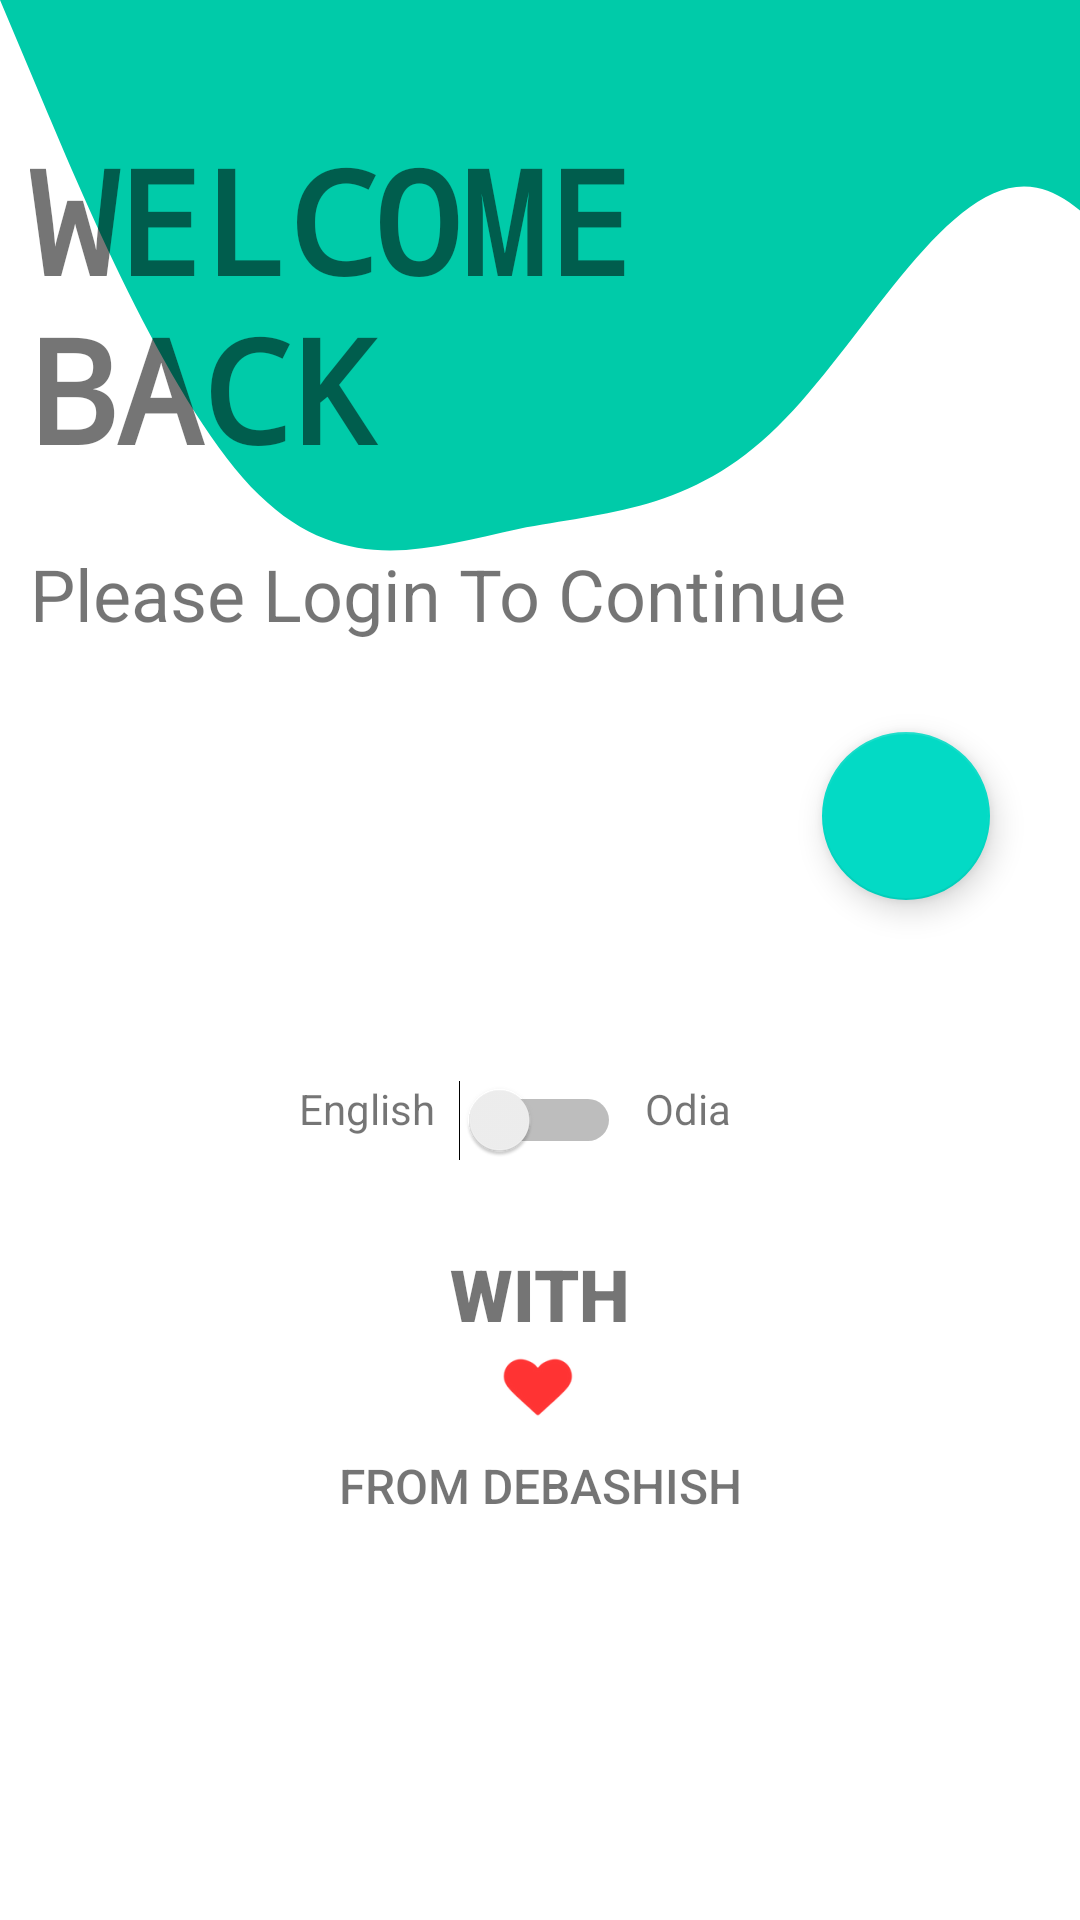

Locate icon controls on the screen. Image size 1080px x 1920px, boxes as [x1, y1, x2, y2].
heart: [503, 1359, 573, 1416]
